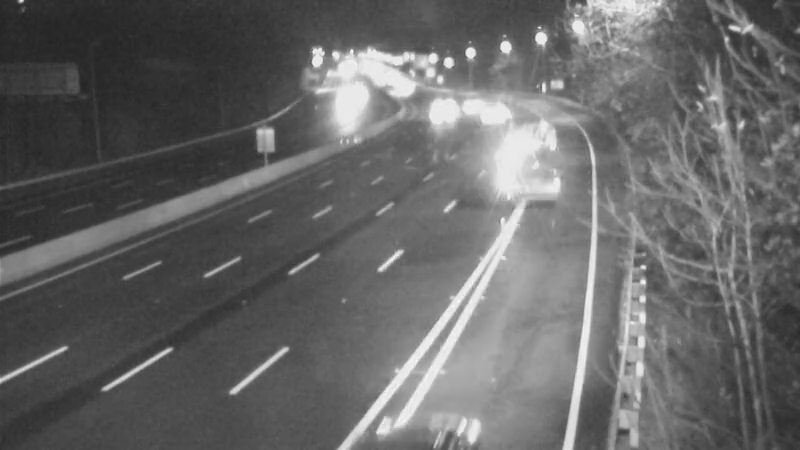vehicle: (495, 135, 575, 215), (369, 65, 419, 115), (447, 73, 497, 123), (414, 73, 464, 123), (416, 91, 466, 141), (469, 91, 519, 141), (321, 80, 371, 130)
